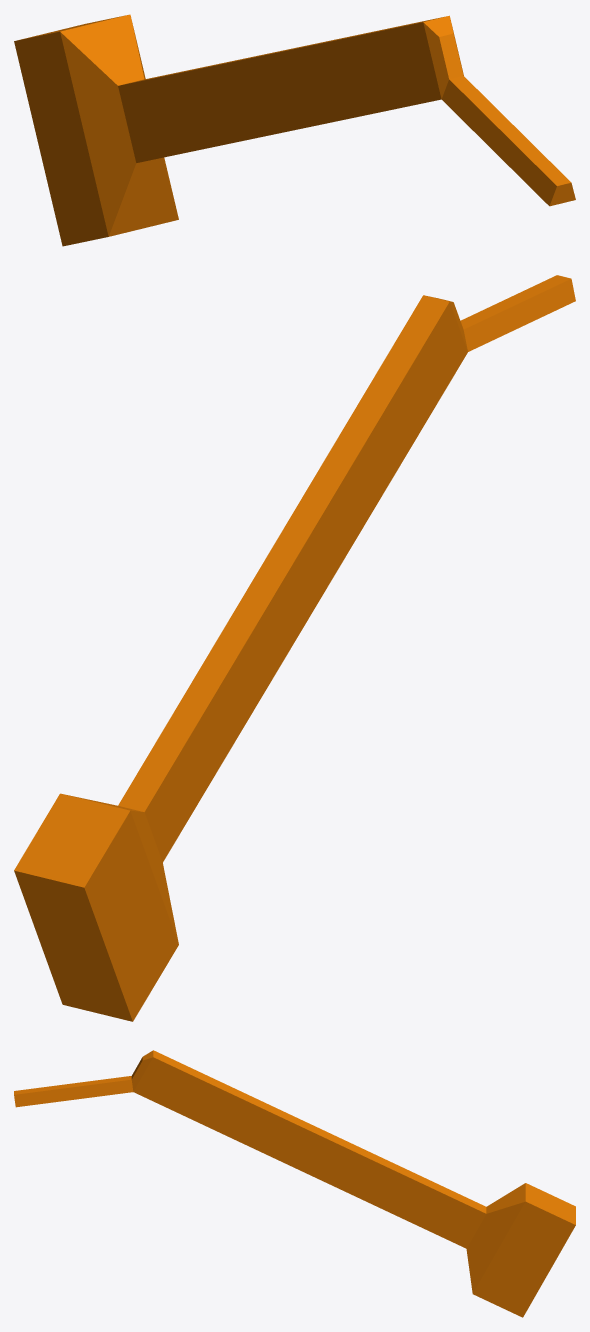
File: lasgun4.gltf
3 renders of one model, top to bottom at view 1: azimuth 30°, elevation 25°; view 2: azimuth 150°, elevation 25°; view 3: azimuth 270°, elevation 25°, orthographic. The views are drawn at different scales.
Visible parts, largest first — view 1: Cube; view 2: Cube; view 3: Cube.
Boxes of the visible parts, left/top/right/bottom form: Cube: left=14, top=14, right=575, bottom=246; Cube: left=14, top=275, right=575, bottom=1021; Cube: left=14, top=1050, right=575, bottom=1317.
Size of the model in its own units: 0.02 by 0.1268 by 0.2536.
